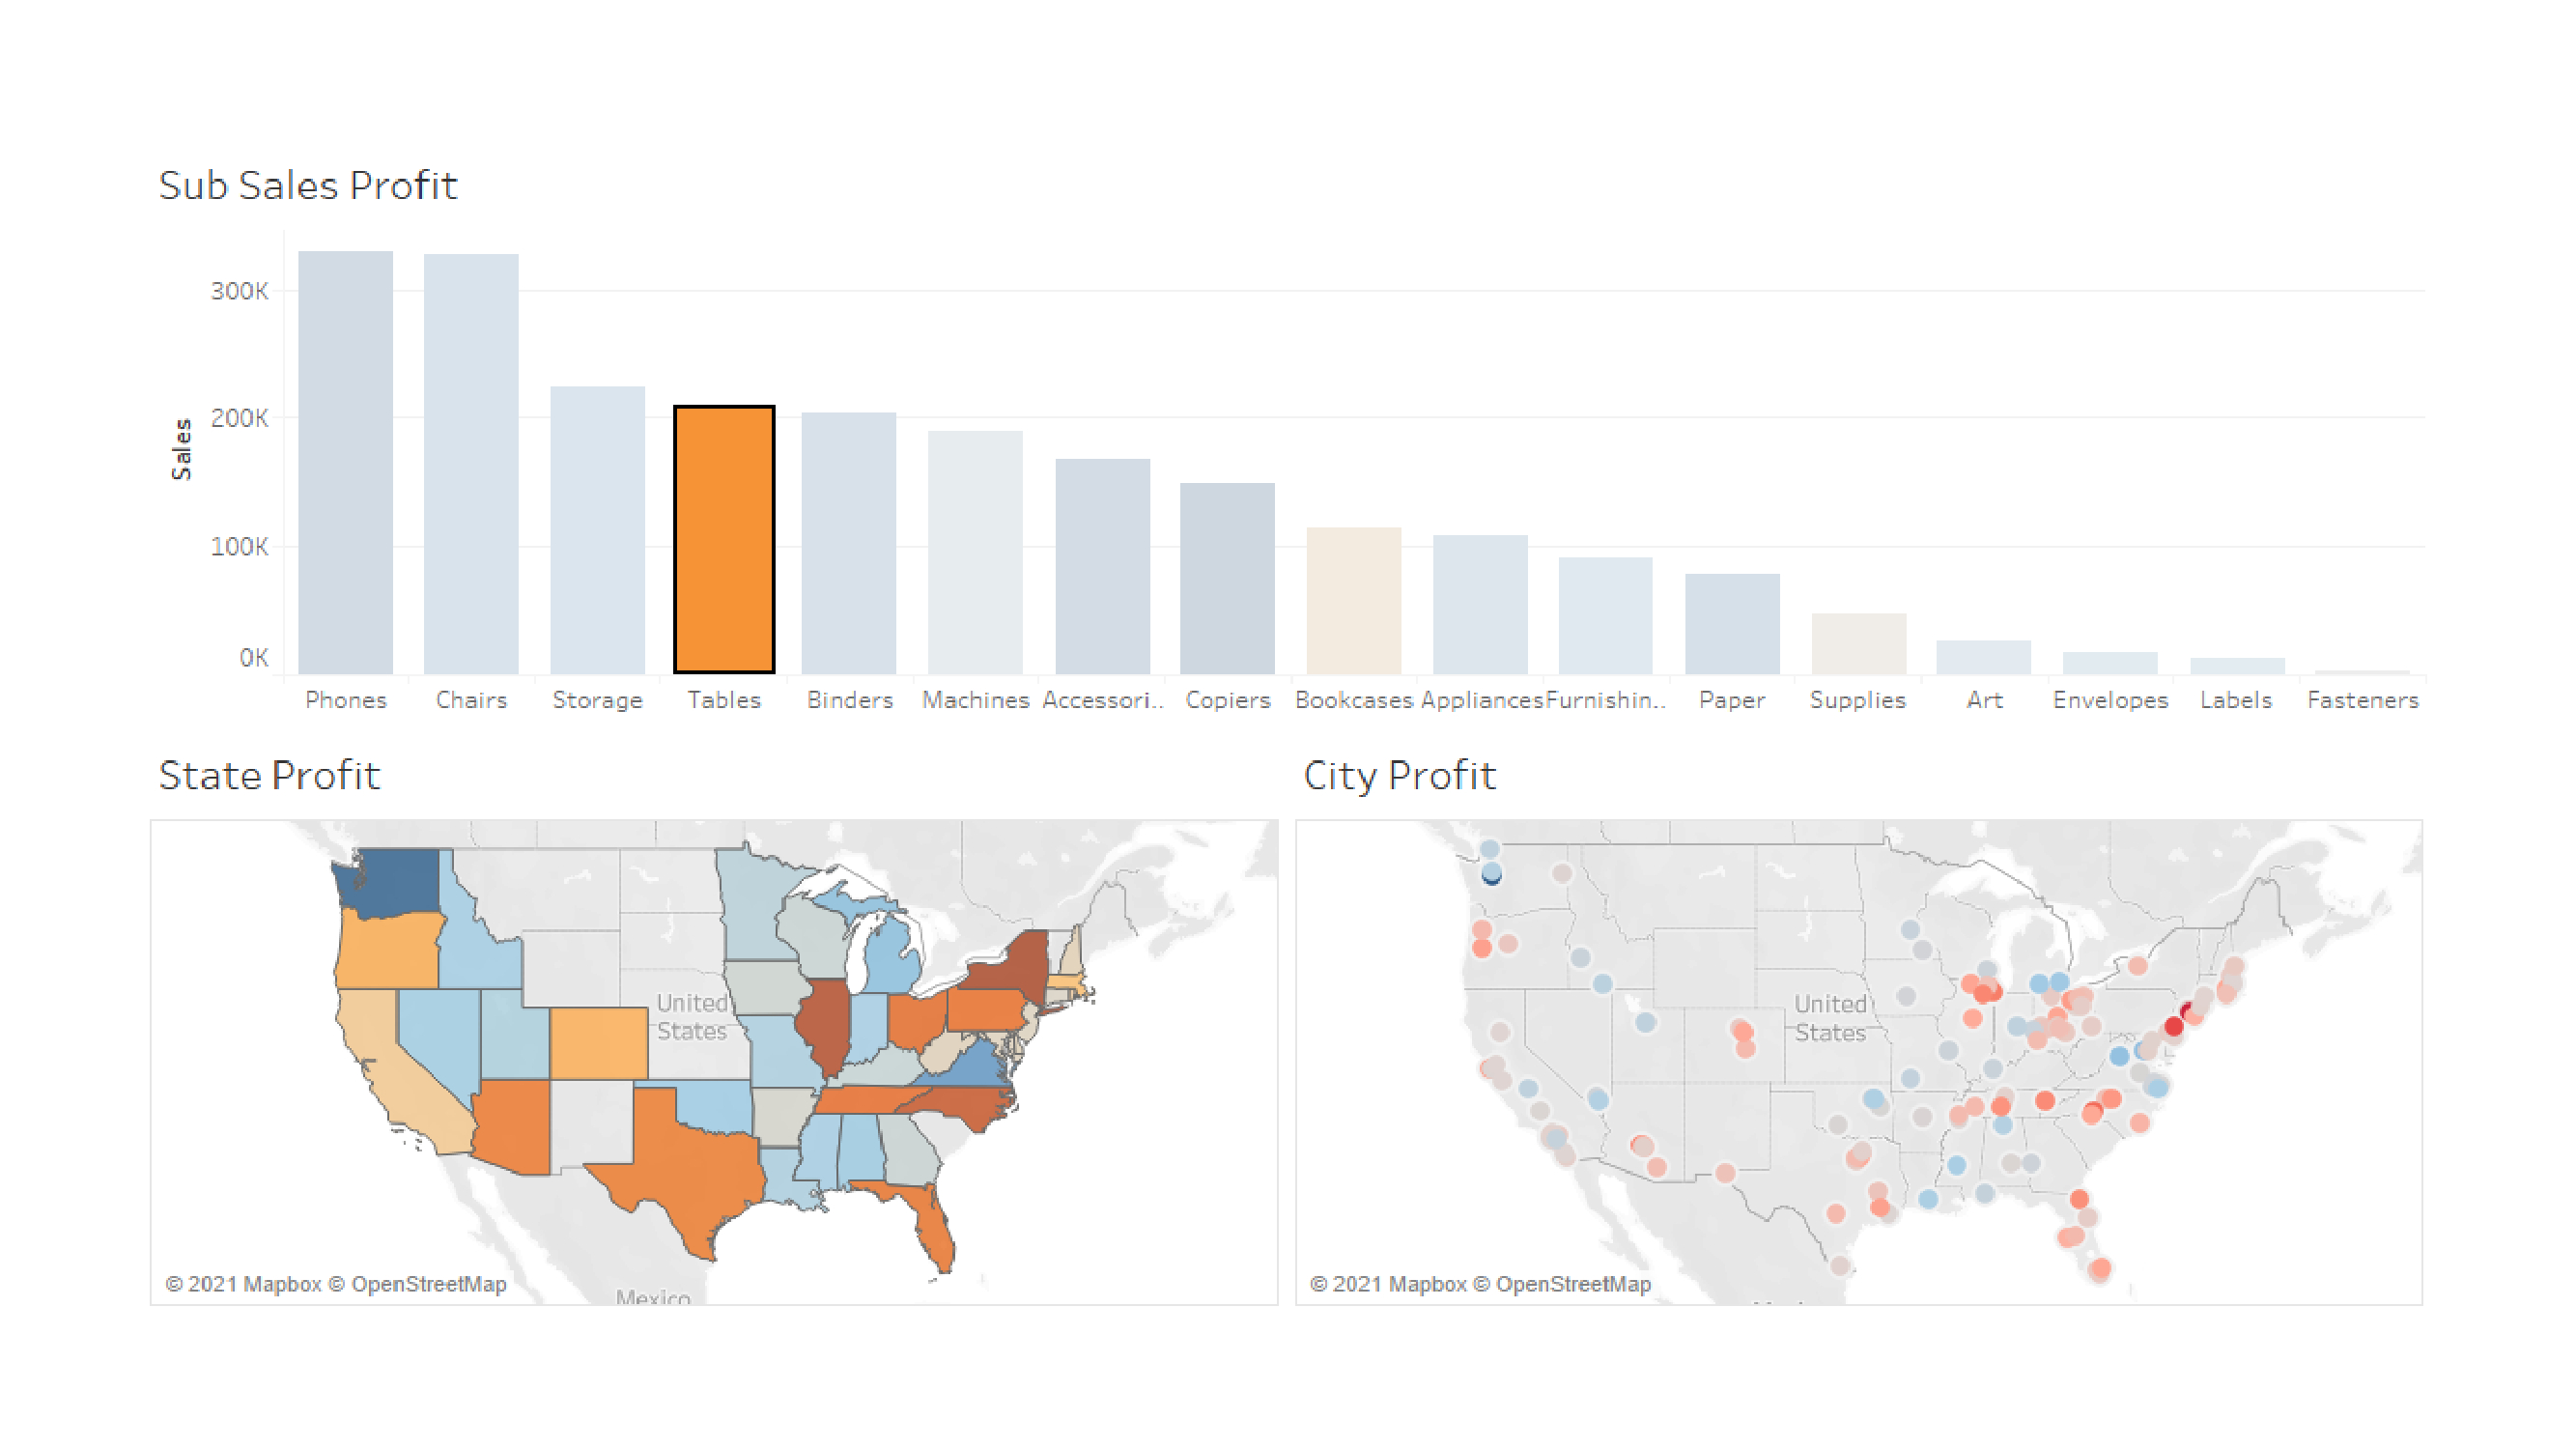

The page's visual inventory and layout, read from the dashboard file:
{"tool":"tableau","page":{"name":"Geo Analysis","canvas":[1000,1000],"units":"permille","ordinal":3},"visuals":[{"type":"worksheet","title":"Sub Sales Profit","mark":"Automatic","rows":["Sales"],"cols":["Sub-Category"],"box":[6.9,13.3,986.1,486.7]},{"type":"worksheet","title":"State Profit","mark":"Automatic","box":[6.9,500,493.1,486.7]},{"type":"worksheet","title":"City Profit","mark":"Automatic","box":[500,500,493.1,486.7]}]}

Visuals, with their boxes on the dashboard's canvas, which has no fixed pixel size, in thousandths of its width and height (x1, y1, x2, y2). These are canvas units, not pixel positions in the 2576x1449 screenshot, which may show the page scaled, cropped or inside an application window:
"Sub Sales Profit" worksheet: (left=7, top=13, right=993, bottom=500)
"State Profit" worksheet: (left=7, top=500, right=500, bottom=987)
"City Profit" worksheet: (left=500, top=500, right=993, bottom=987)
